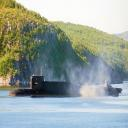submarine: (9, 65, 80, 97)
